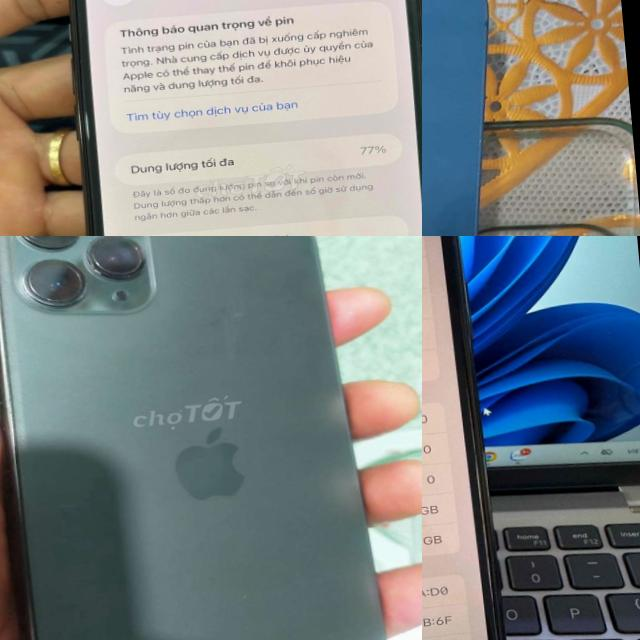scratch: (0, 384, 29, 457), (99, 262, 148, 288), (232, 585, 260, 615), (126, 236, 151, 256), (18, 255, 36, 281)
